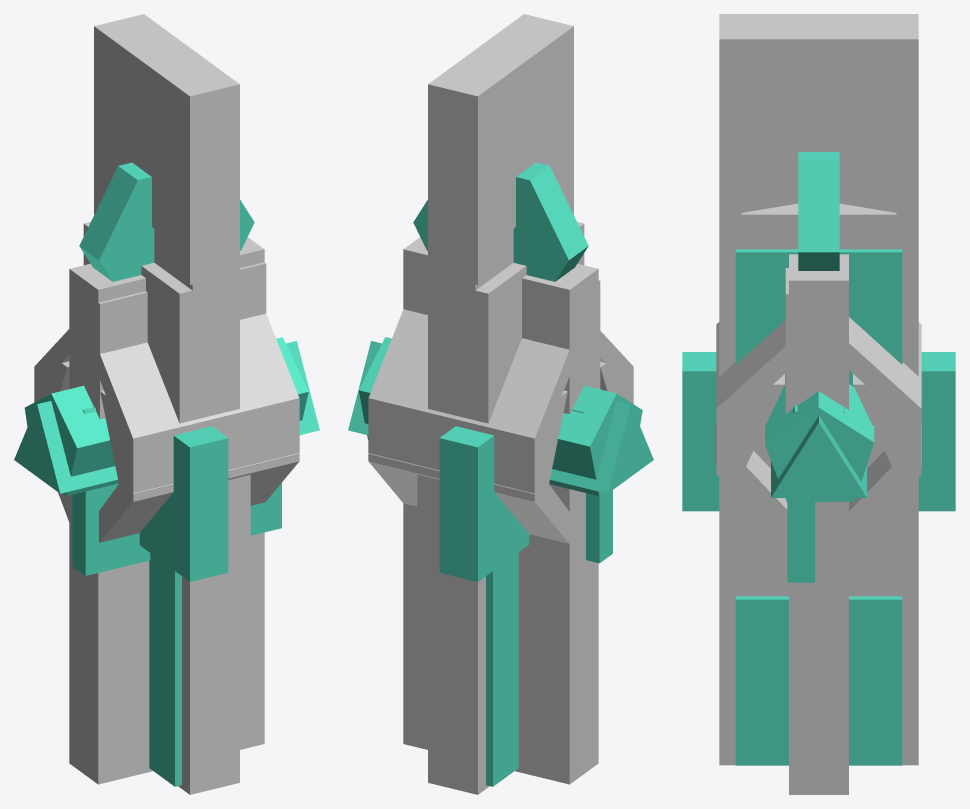
The model's file is Props.fbx.
The picture shows the model from 3 angles, left to right: view 1: azimuth 30°, elevation 25°; view 2: azimuth 150°, elevation 25°; view 3: azimuth 270°, elevation 25°; orthographic projection. The views are drawn at different scales.
Parts seen in each view (by area): view 1: Prop6, Prop10, Prop1, Prop2, Prop4, Prop7, Prop8, Prop3, Prop9; view 2: Prop4, Prop6, Prop2, Prop10, Prop7, Prop8, Prop1, Prop9, Prop3; view 3: Prop6, Prop11, Prop8, Prop4, Prop1, Prop7, Prop10, Prop9, Prop2, Prop3.
Part boxes in pixels (x1=…): Prop6: x1=94, y1=14, x2=239, y2=712; Prop10: x1=83, y1=221, x2=250, y2=790; Prop1: x1=69, y1=237, x2=264, y2=784; Prop2: x1=79, y1=162, x2=254, y2=794; Prop4: x1=24, y1=313, x2=308, y2=756; Prop7: x1=14, y1=341, x2=319, y2=783; Prop8: x1=139, y1=173, x2=239, y2=668; Prop3: x1=34, y1=366, x2=299, y2=776; Prop9: x1=69, y1=262, x2=281, y2=784; Prop4: x1=358, y1=309, x2=642, y2=784; Prop6: x1=428, y1=14, x2=573, y2=793; Prop2: x1=413, y1=162, x2=588, y2=794; Prop10: x1=417, y1=221, x2=584, y2=791; Prop7: x1=348, y1=341, x2=653, y2=783; Prop8: x1=428, y1=173, x2=529, y2=794; Prop1: x1=403, y1=237, x2=598, y2=782; Prop9: x1=543, y1=280, x2=612, y2=771; Prop3: x1=369, y1=366, x2=633, y2=765; Prop6: x1=719, y1=14, x2=918, y2=753; Prop11: x1=735, y1=249, x2=902, y2=765; Prop8: x1=682, y1=203, x2=955, y2=765; Prop4: x1=716, y1=317, x2=921, y2=775; Prop1: x1=789, y1=254, x2=848, y2=794; Prop7: x1=716, y1=374, x2=921, y2=794; Prop10: x1=719, y1=427, x2=918, y2=596; Prop9: x1=785, y1=268, x2=848, y2=794; Prop2: x1=719, y1=152, x2=918, y2=761; Prop3: x1=716, y1=405, x2=921, y2=794.
Size of the model in its own units: 312 by 803 by 274.
